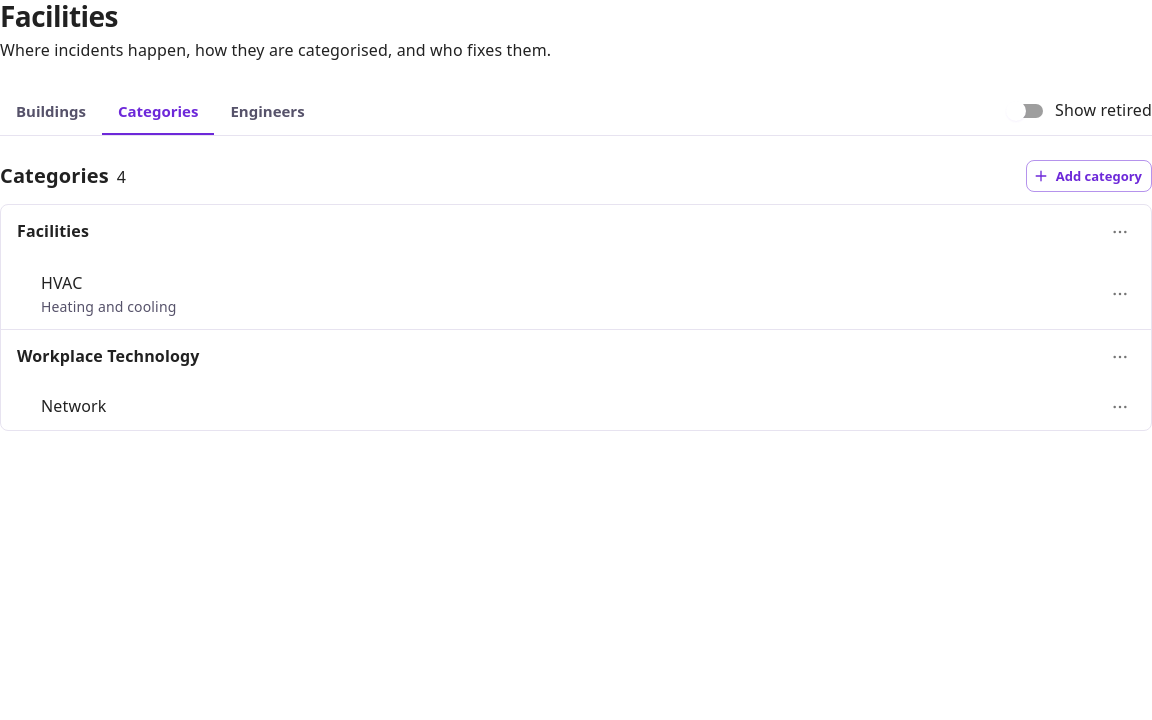
it: FacilitiesPage › edits a category from its row menu and deletes one after confirming
Expected: the list "Facilities" is shown, [1,205,1151,329]
Click the button named "Actions for HVAC" at {"x": 1120, "y": 294}, box [1105,279,1135,309]
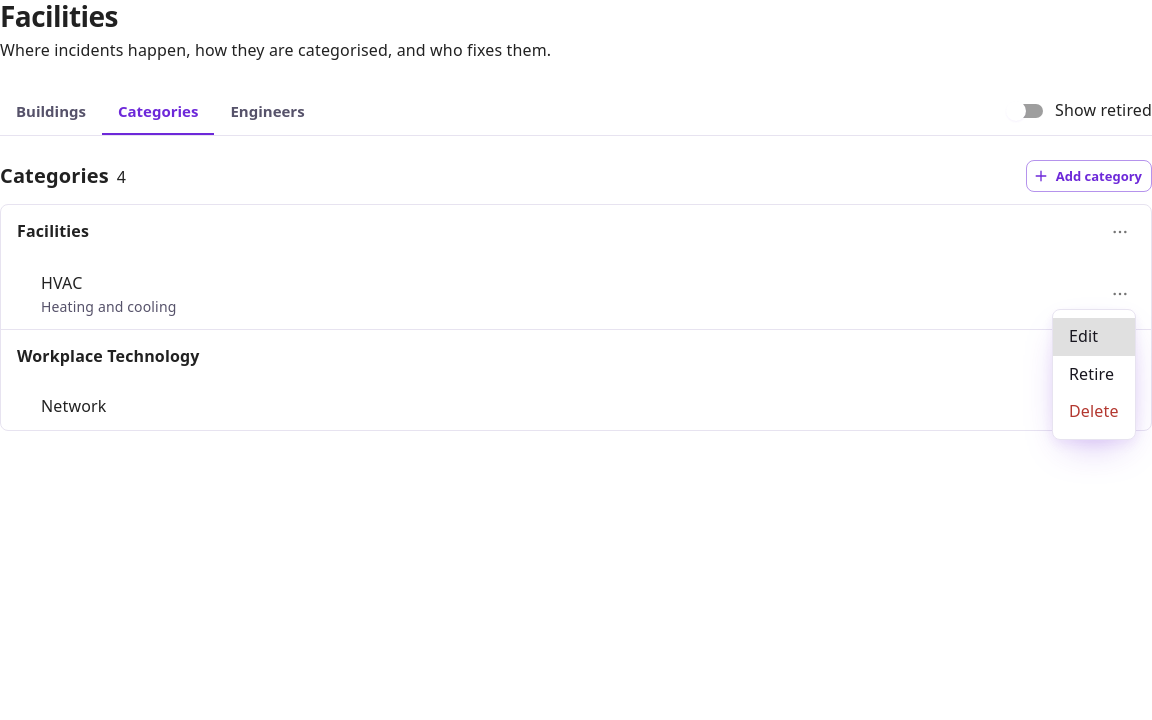
Click the menu item "Edit" at {"x": 1094, "y": 337}, box [1053,318,1135,356]
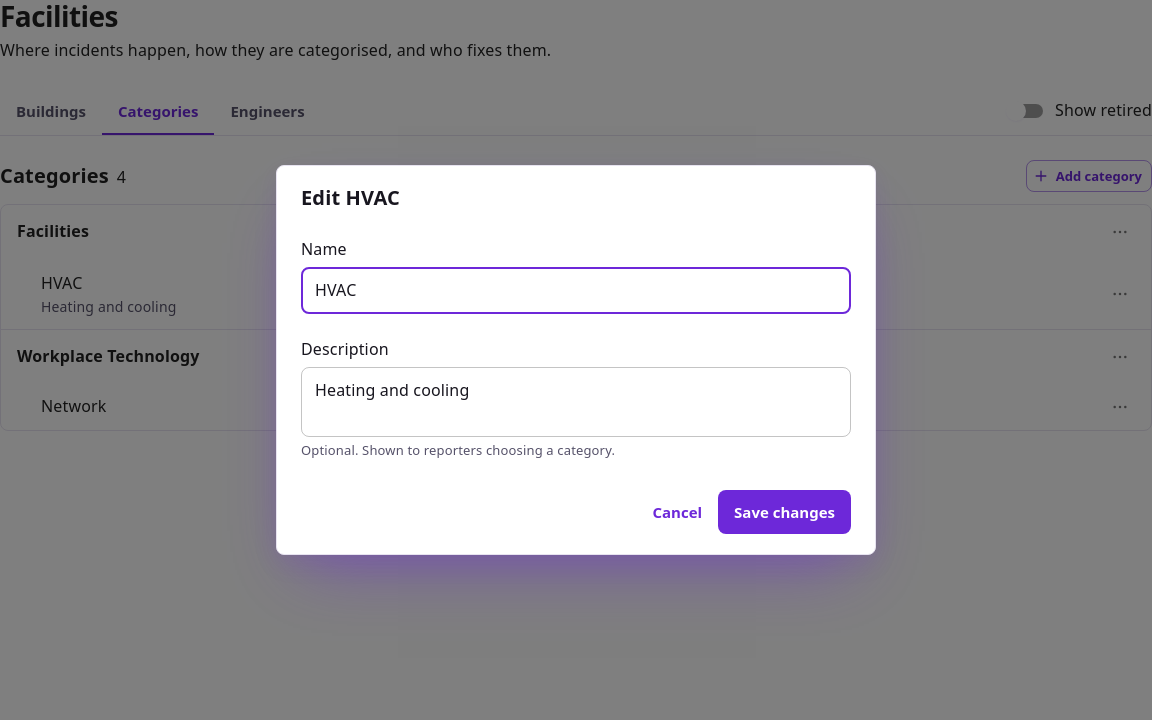
Result: the field labelled "Name" holds "HVAC"
Replace the text in the field labelled "Name" with "Heating and cooling" at {"x": 576, "y": 291}, box [301,267,851,314]
Click the button "Save changes" at {"x": 785, "y": 512}, box [718,490,851,534]
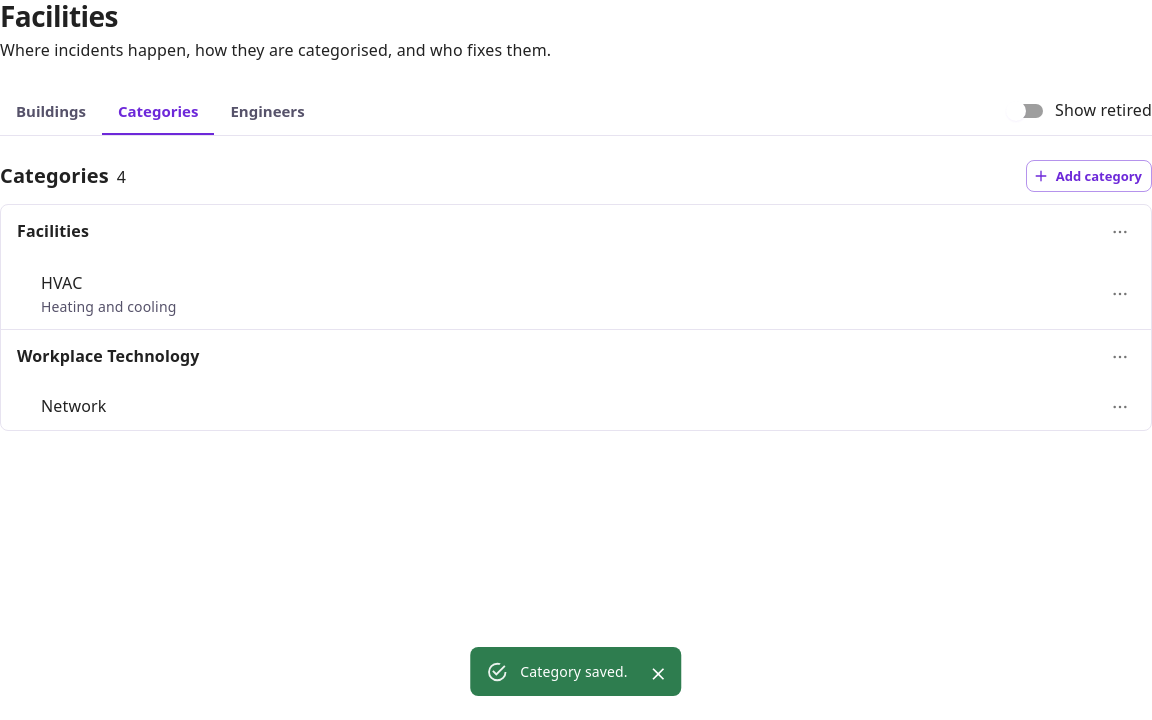
Result: the text "Category saved." is shown at [520,662,628,681]
Click the button named "Actions for Network" at {"x": 1120, "y": 407}, box [1105,392,1135,422]
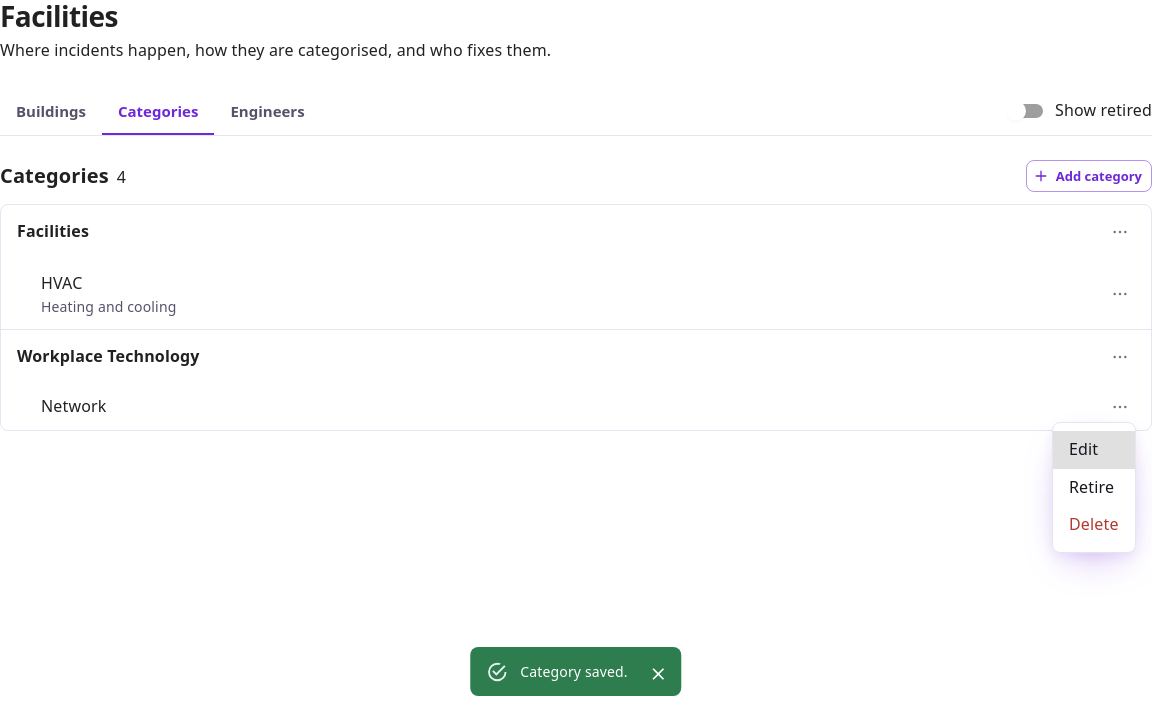
Click the menu item "Delete" at {"x": 1094, "y": 524}, box [1069,513,1119,535]
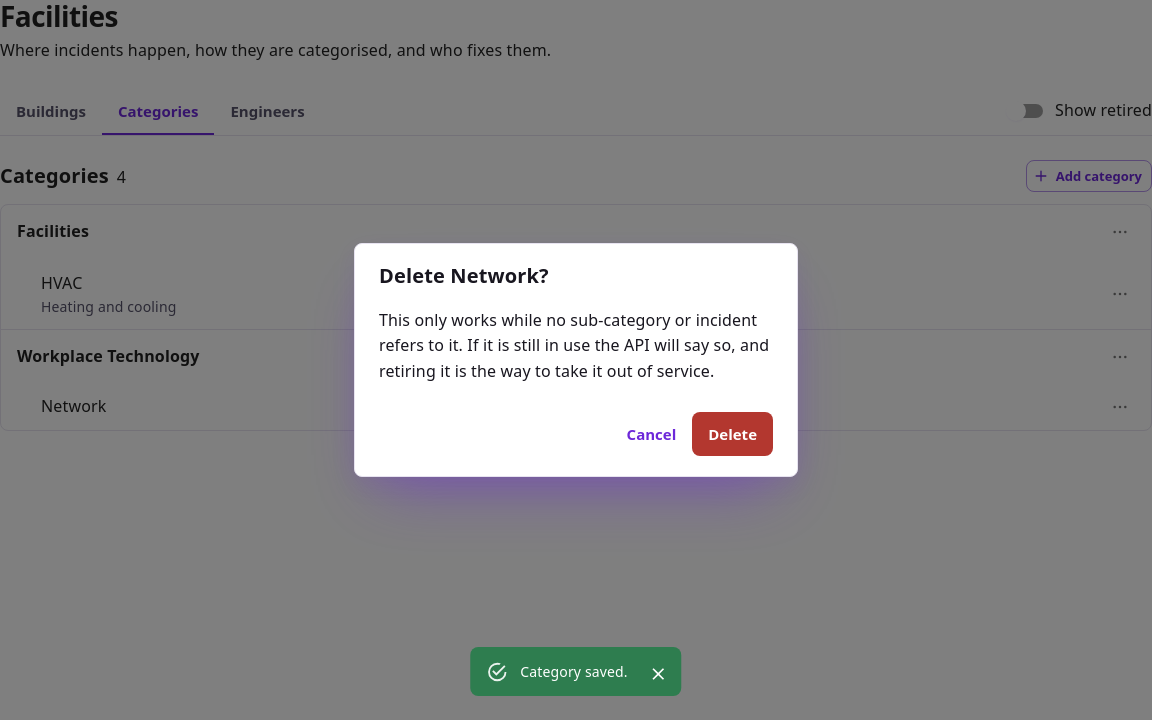
Result: the heading "Delete Network?" is shown at [379,262,549,289]
Click the button "Delete" at {"x": 733, "y": 434}, box [692,412,773,456]
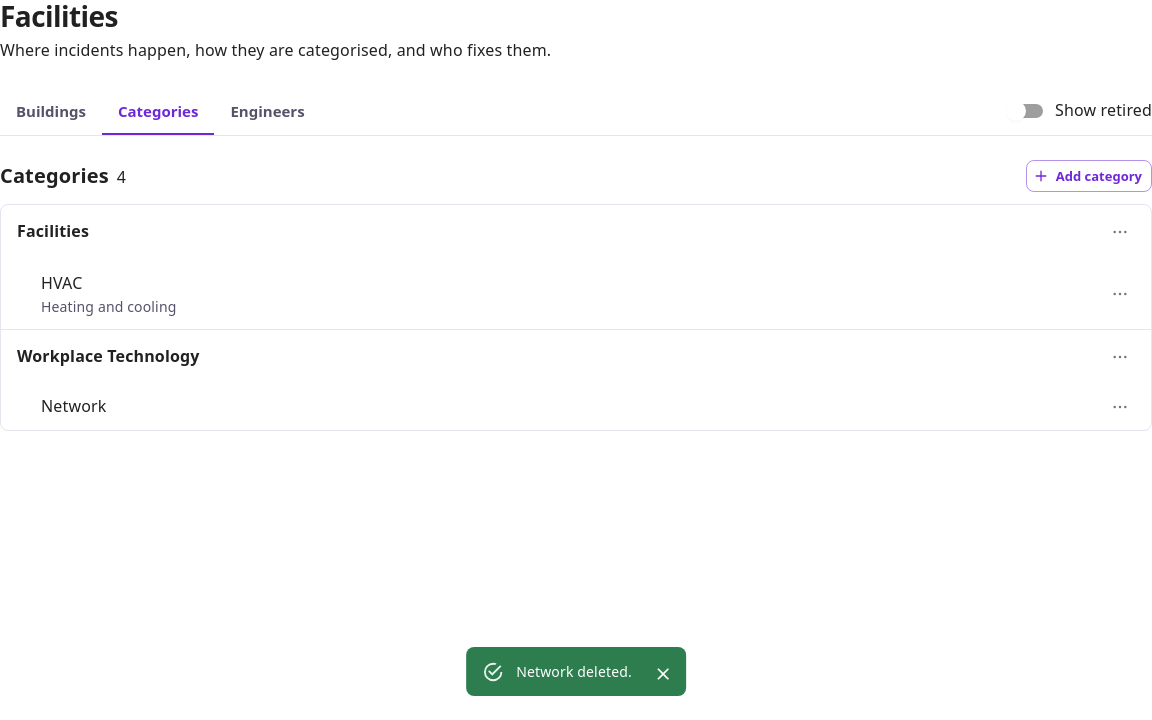
Result: the text "Network deleted." is shown at [516,662,632,681]
